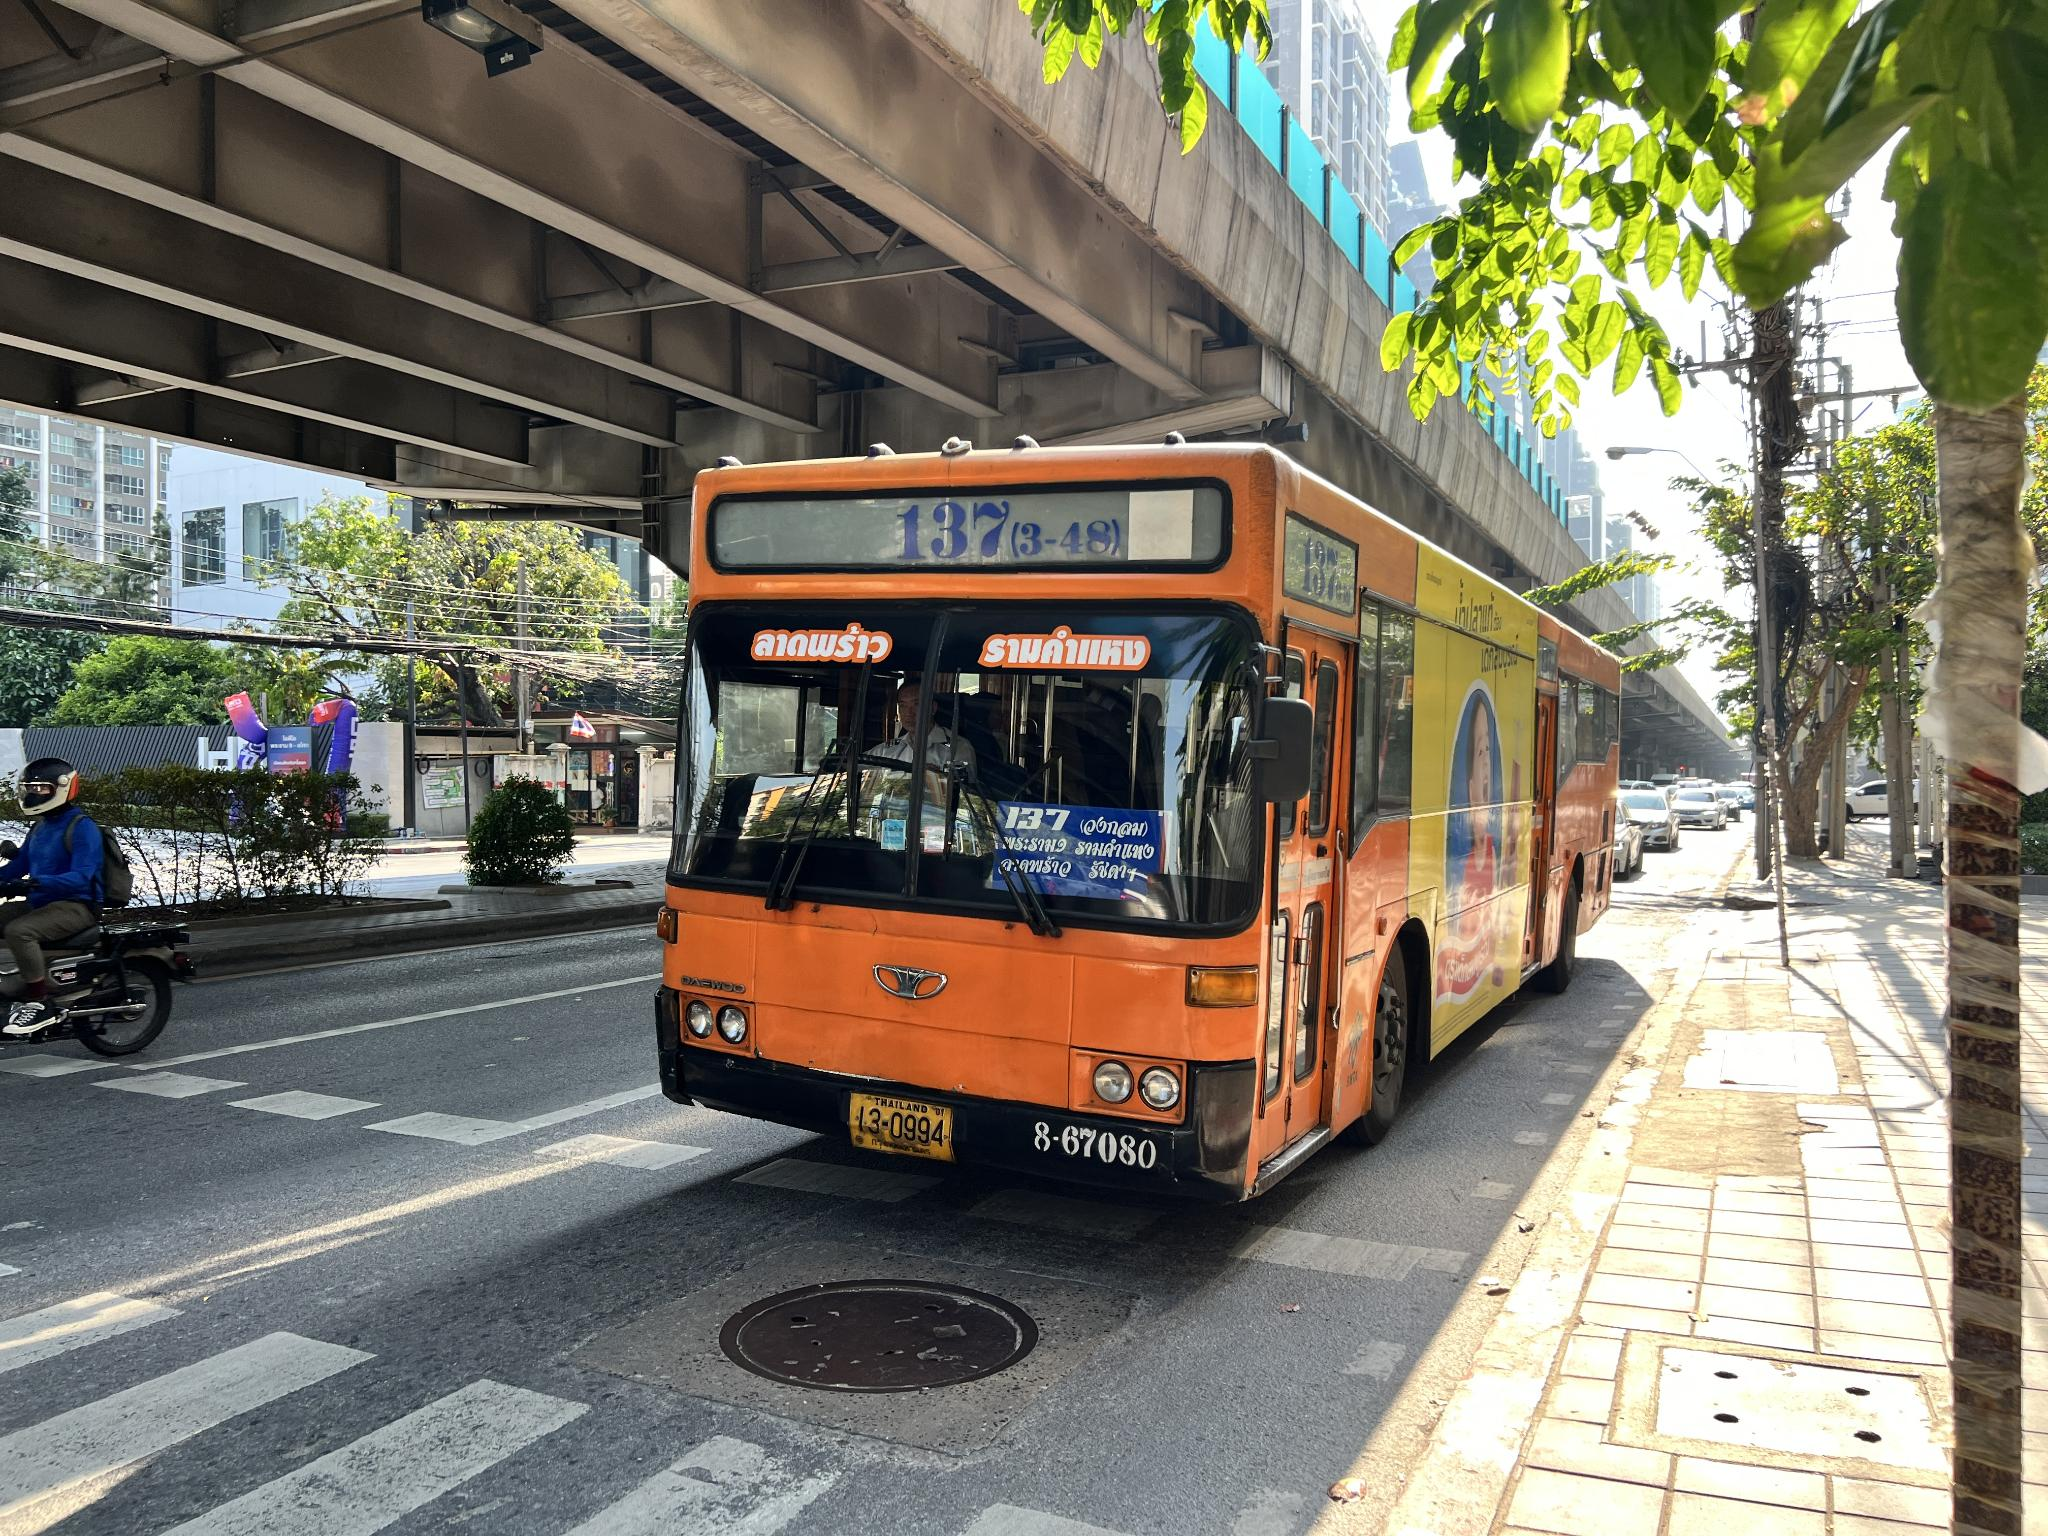BMTA-bus: (648, 444, 1622, 1205)
Bus Line Number: (887, 490, 1130, 566)
Bus Side Number: (1026, 1113, 1158, 1179)
Destination Sign: (995, 800, 1166, 897)
